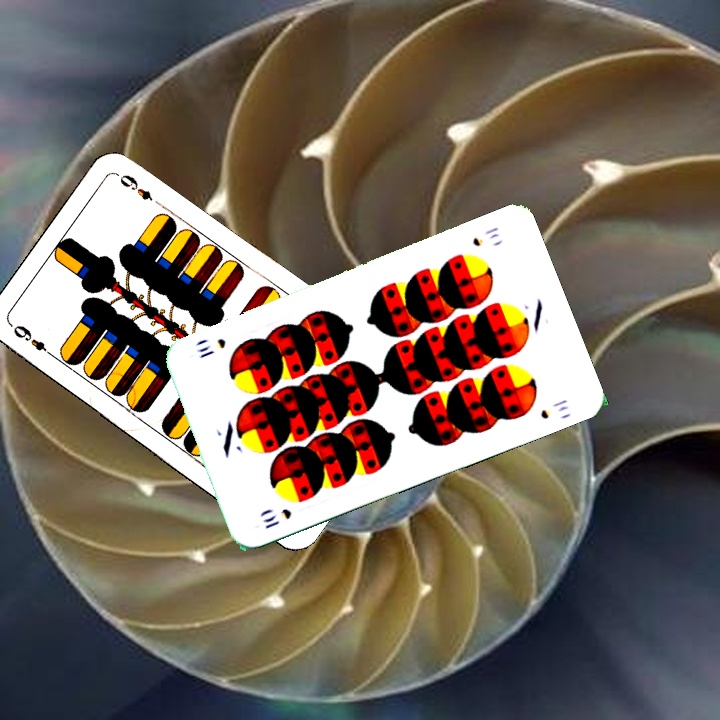E9: (9, 321, 58, 361)
S10: (259, 504, 295, 531), (468, 222, 502, 250)
